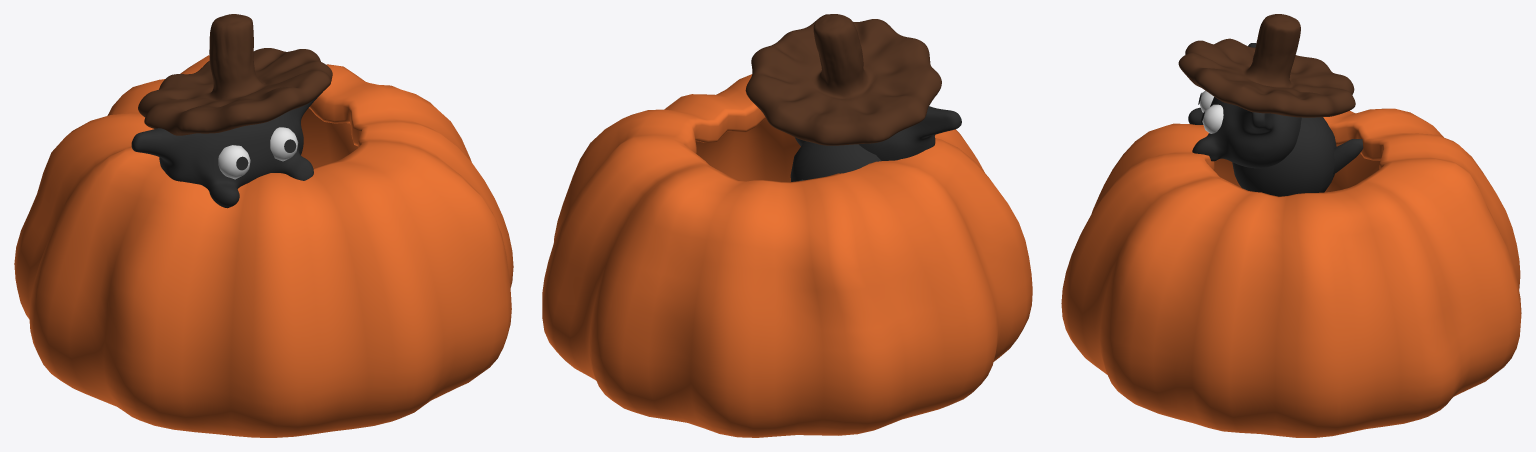
The model's file is pumpkinCat.gltf.
3 renders of one model, left to right at view 1: azimuth 30°, elevation 25°; view 2: azimuth 150°, elevation 25°; view 3: azimuth 270°, elevation 25°, orthographic. The views are drawn at different scales.
Visible parts, largest first — view 1: pumpkin, top, paw, Icosphere, Icosphere.001; view 2: pumpkin, top, paw, Cube; view 3: pumpkin, top, paw, Cube, Cube.001, Icosphere.001.
Part boxes in pixels (left/top/right/bottom): pumpkin: left=14, top=55, right=513, bottom=437; top: left=138, top=14, right=332, bottom=135; paw: left=131, top=92, right=322, bottom=208; Icosphere: left=218, top=145, right=250, bottom=179; Icosphere.001: left=270, top=127, right=298, bottom=161; pumpkin: left=542, top=74, right=1032, bottom=437; top: left=745, top=14, right=941, bottom=145; paw: left=795, top=106, right=961, bottom=160; Cube: left=790, top=141, right=881, bottom=181; pumpkin: left=1061, top=108, right=1521, bottom=437; top: left=1178, top=14, right=1355, bottom=117; paw: left=1188, top=43, right=1301, bottom=168; Cube: left=1232, top=117, right=1336, bottom=196; Cube.001: left=1333, top=139, right=1363, bottom=173; Icosphere.001: left=1202, top=104, right=1223, bottom=133.
Bounding box in the file's own units: 195 × 155 × 192.
1 material, 1 textured.
